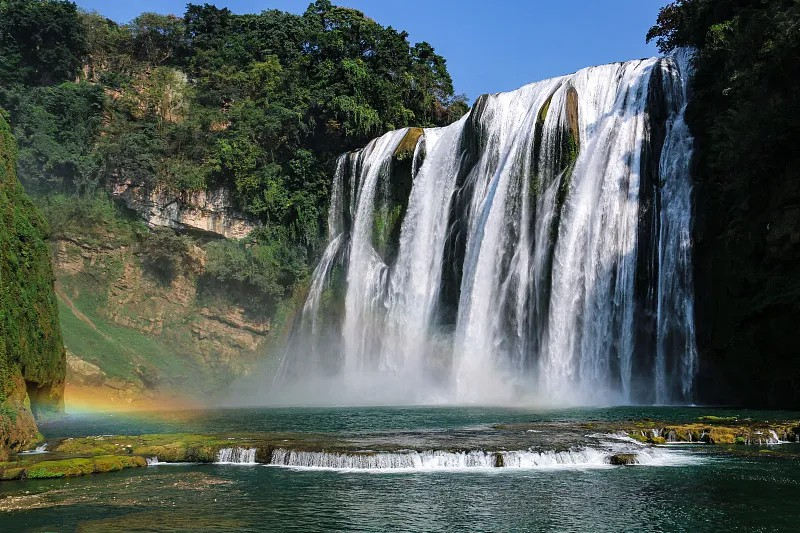Huangguoshu: (286, 56, 699, 406)
